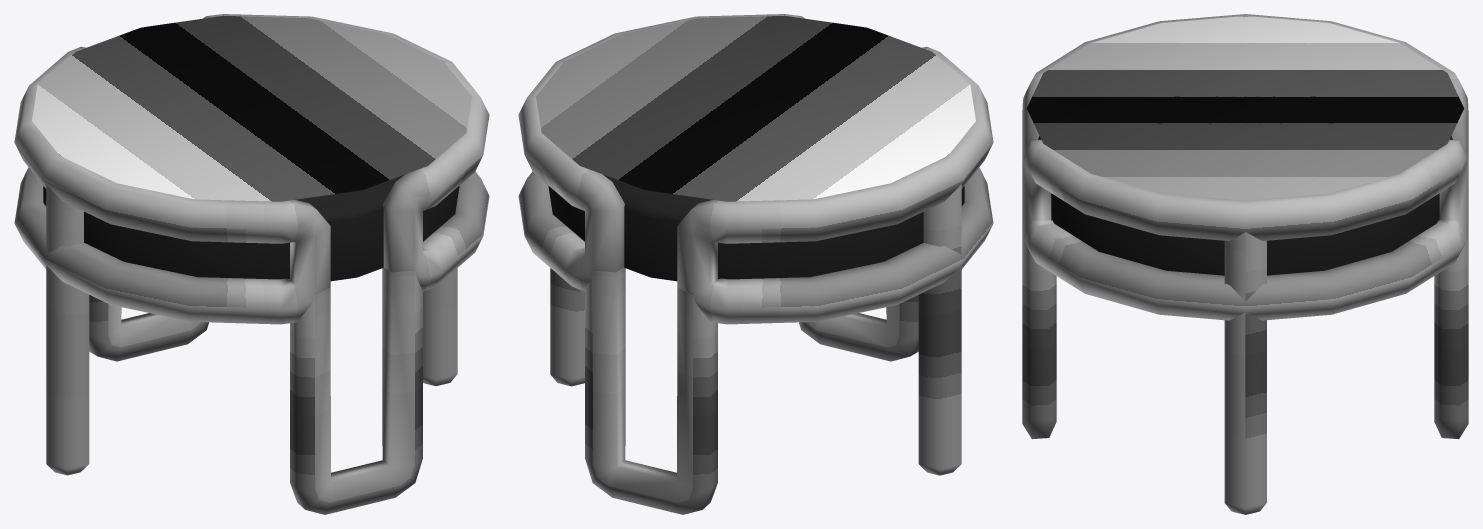
The model's file is rmk_pip_tableS.dae.
3 views of the same model, side by side, from view 1: azimuth 30°, elevation 25°; view 2: azimuth 150°, elevation 25°; view 3: azimuth 270°, elevation 25° (orthographic).
Parts seen in each view (by area): view 1: rmk_pip_tableS; view 2: rmk_pip_tableS; view 3: rmk_pip_tableS.
Part boxes in pixels (left/top/right/bottom): rmk_pip_tableS: left=14, top=14, right=489, bottom=514; rmk_pip_tableS: left=518, top=14, right=993, bottom=514; rmk_pip_tableS: left=1022, top=14, right=1468, bottom=514.
Size of the model in its own units: 24.94 by 18.25 by 23.53.
Materials: 3 (3 with a texture image).
